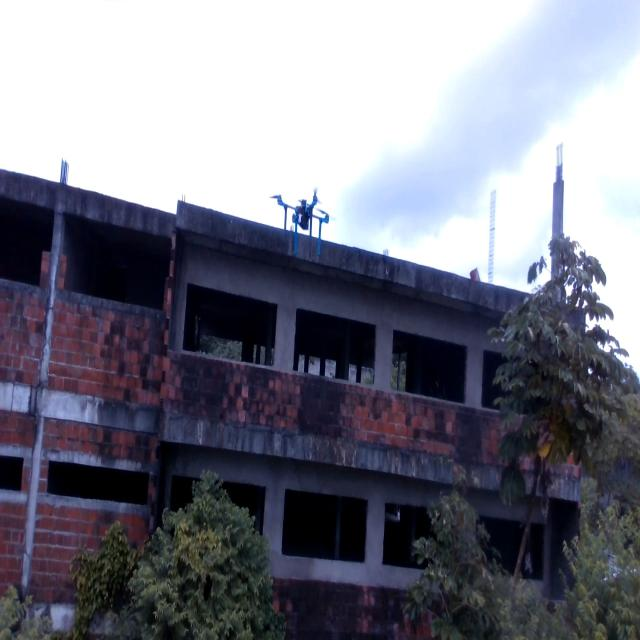-uav-: (268, 175, 339, 272)
